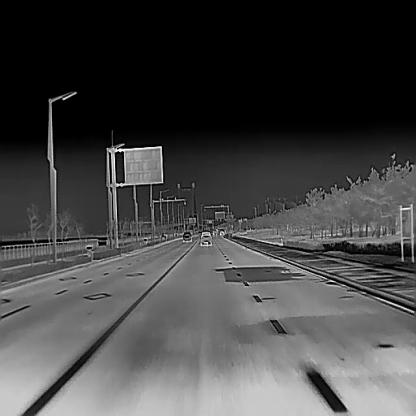car: (199, 231, 212, 245), (182, 231, 191, 242)
